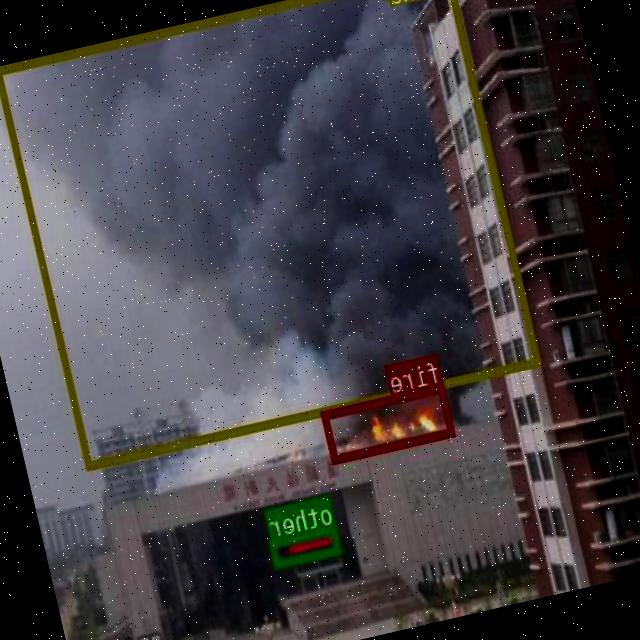fire: (322, 380, 457, 462)
smoke: (0, 0, 542, 469)
